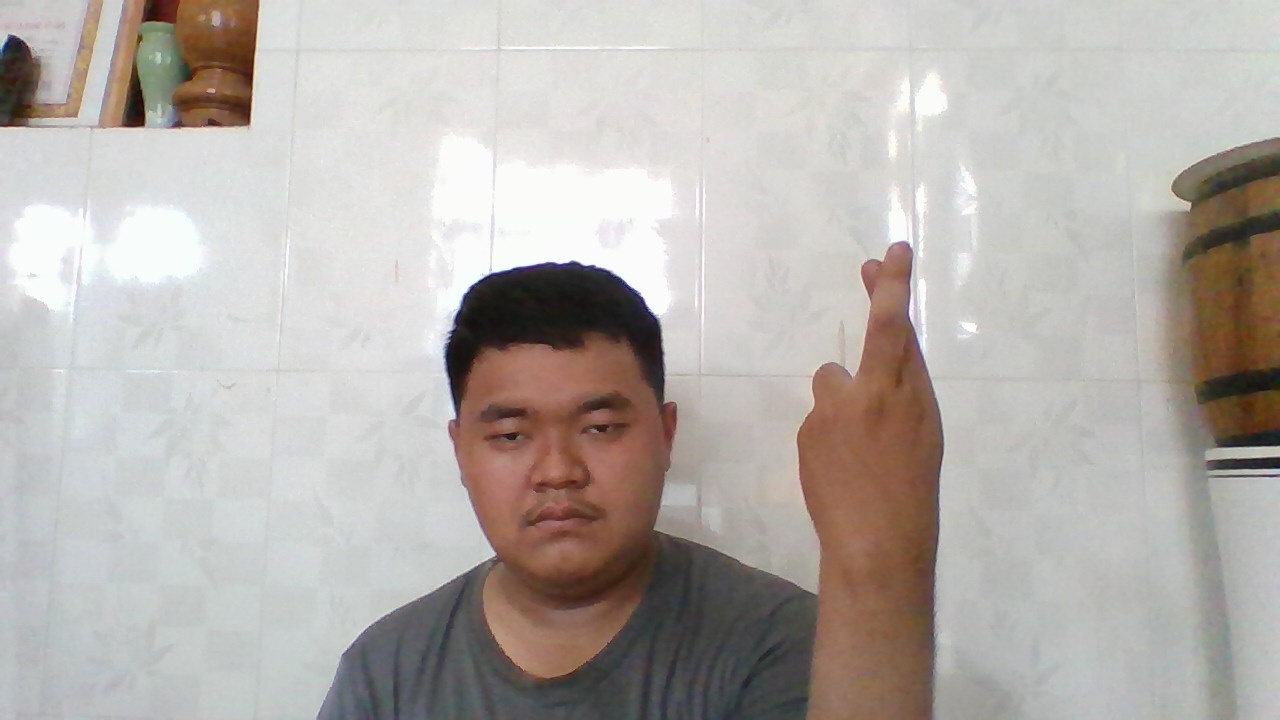R: (799, 236, 932, 576)
